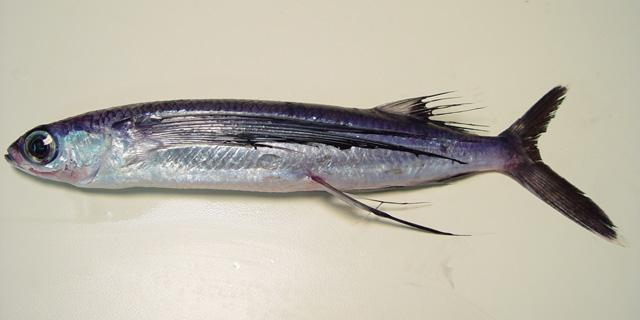Mulut: (0, 120, 34, 198)
Sirip Dada: (111, 104, 462, 176)
Sirip Ekor: (492, 78, 628, 258)
Sirip Perut: (298, 162, 482, 258)
Sirip Punggung: (367, 85, 495, 143)
